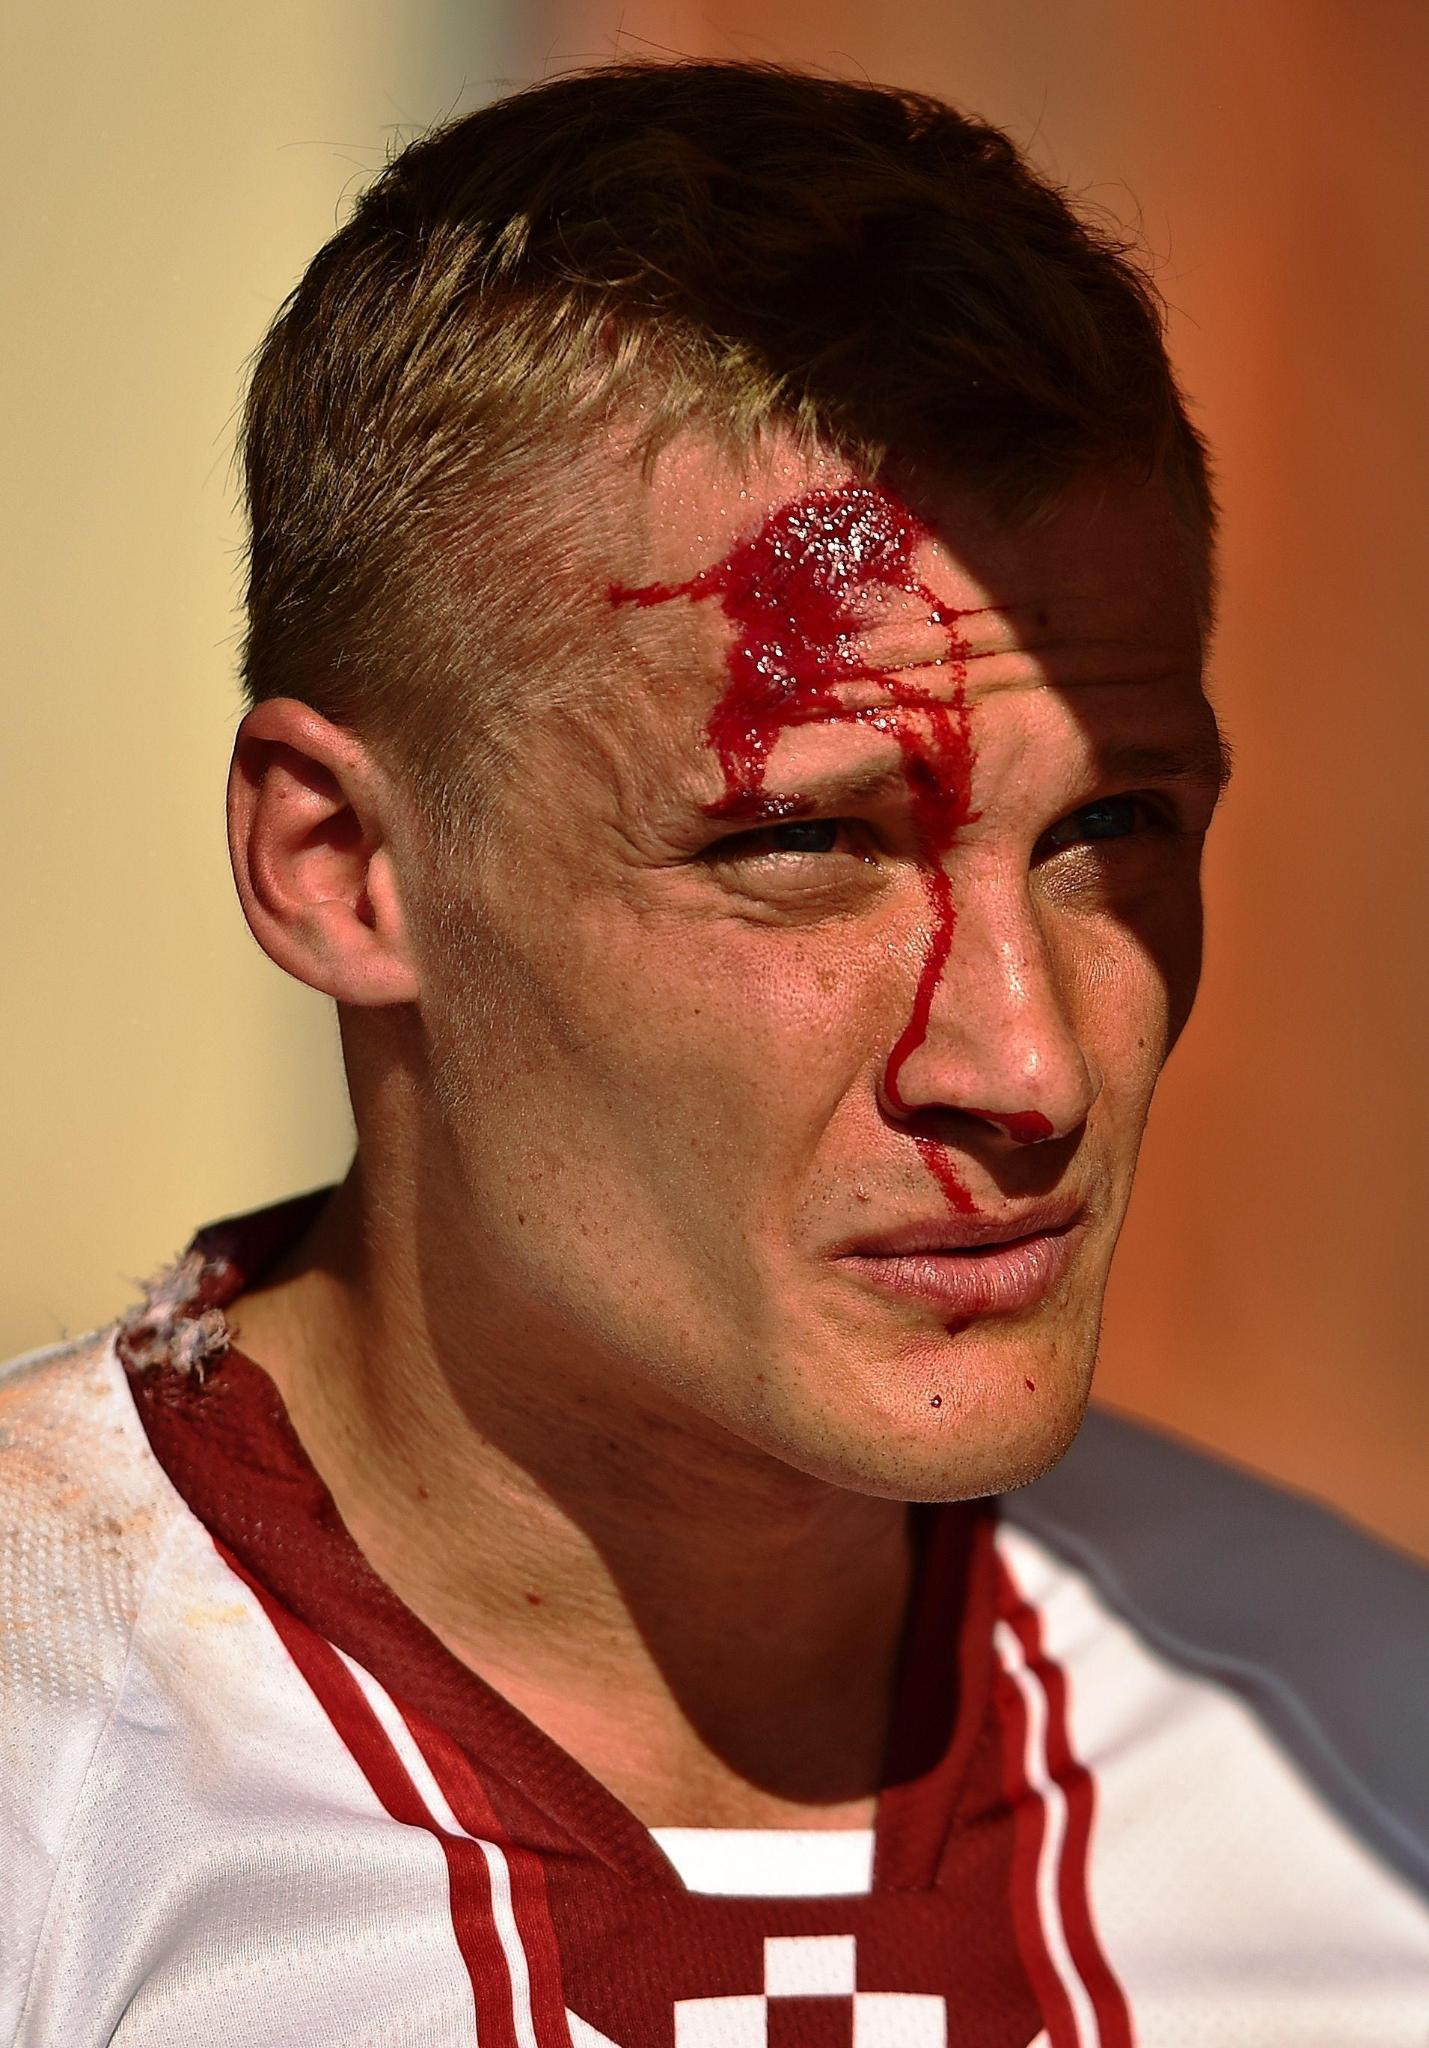Fire: (610, 479, 932, 820), (861, 576, 987, 1119), (898, 1116, 984, 1219), (960, 1108, 1055, 1145)
